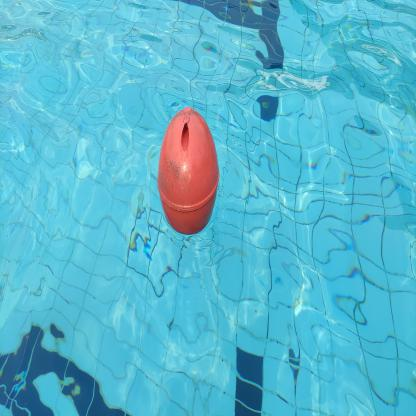red_buoy: (155, 106, 221, 235)
